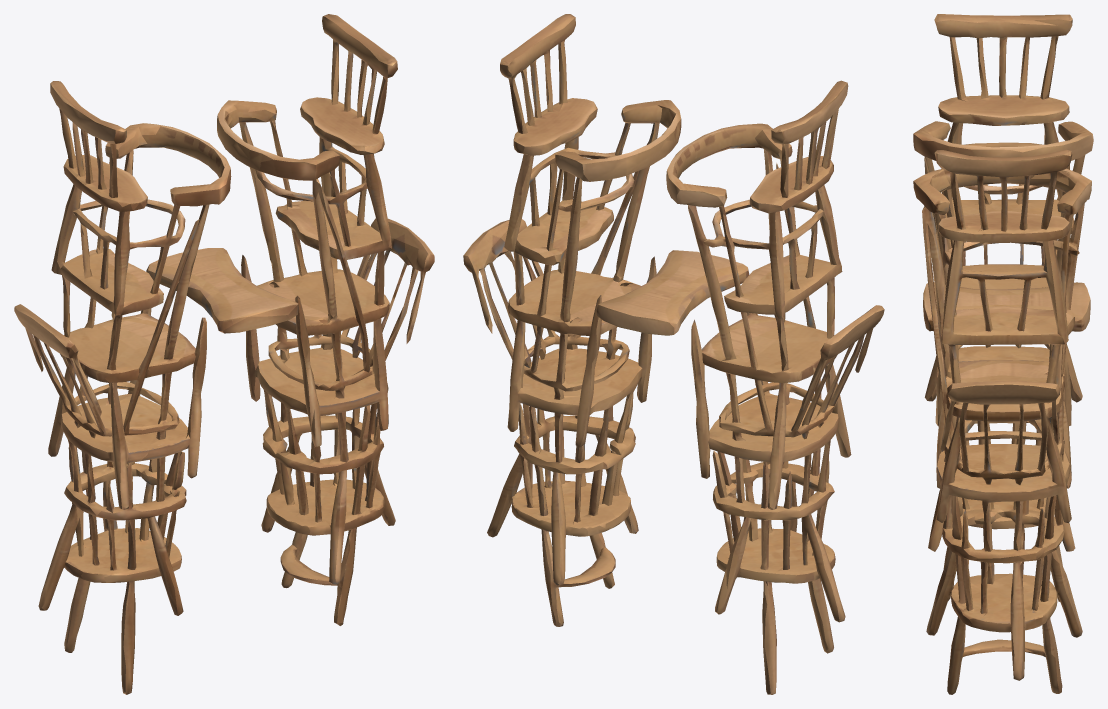
Rendered from anomaly_chairstack.glb.
The picture shows the model from 3 angles, left to right: view 1: azimuth 30°, elevation 25°; view 2: azimuth 150°, elevation 25°; view 3: azimuth 270°, elevation 25°; orthographic projection.
Parts seen in each view (by area): view 1: geometry_0; view 2: geometry_0; view 3: geometry_0.
Boxes of the visible parts, <box> form: geometry_0: <box>14,14,434,694</box>; geometry_0: <box>463,14,884,694</box>; geometry_0: <box>913,14,1093,694</box>.
Size of the model in its own units: 1.92 by 2.8 by 0.7883.
1 material, 1 textured.
